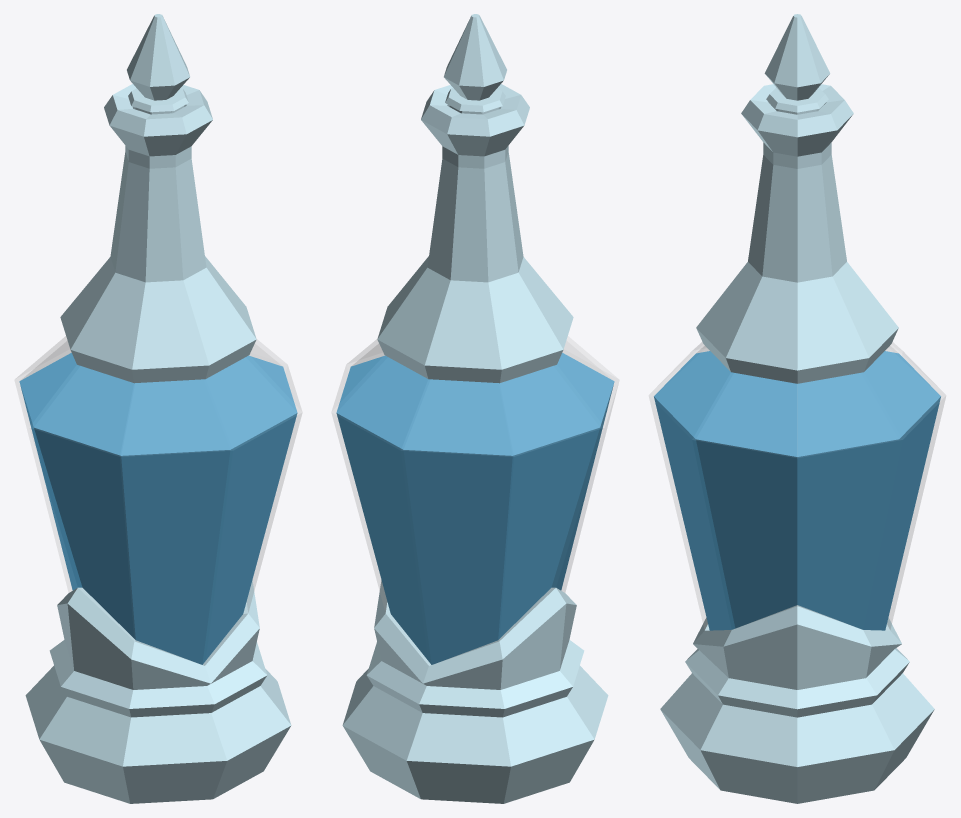
Rendered from Type_02_Blue.fbx.
3 renders of one model, left to right at view 1: azimuth 30°, elevation 25°; view 2: azimuth 150°, elevation 25°; view 3: azimuth 270°, elevation 25°, orthographic.
Visible parts, largest first — view 1: Type_02_Bottle, Type_02_Cork; view 2: Type_02_Bottle, Type_02_Cork; view 3: Type_02_Bottle, Type_02_Cork.
Boxes of the visible parts, <box> form: Type_02_Bottle: <box>14,84,302,803</box>; Type_02_Cork: <box>127,14,189,114</box>; Type_02_Bottle: <box>331,84,619,803</box>; Type_02_Cork: <box>444,14,506,114</box>; Type_02_Bottle: <box>649,84,945,803</box>; Type_02_Cork: <box>764,14,830,114</box>.
Size of the model in its own units: 15 by 41.23 by 15.
